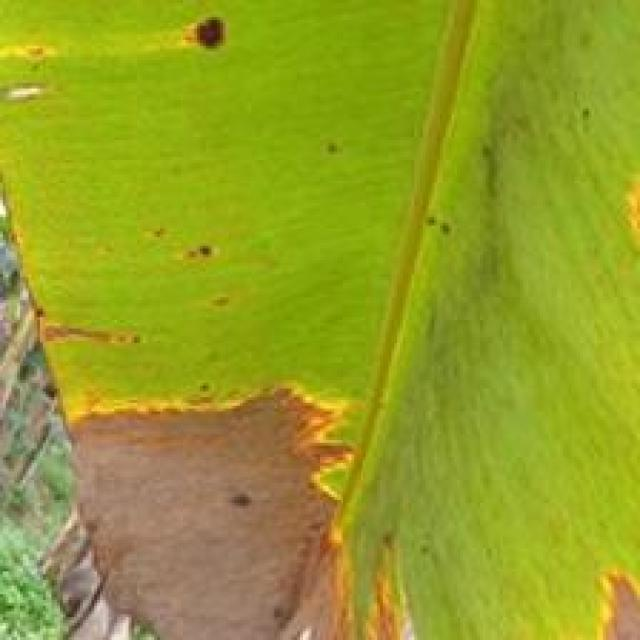Bacterial_spot: (58, 376, 399, 640), (583, 557, 640, 640), (172, 11, 252, 65), (0, 74, 51, 114)
